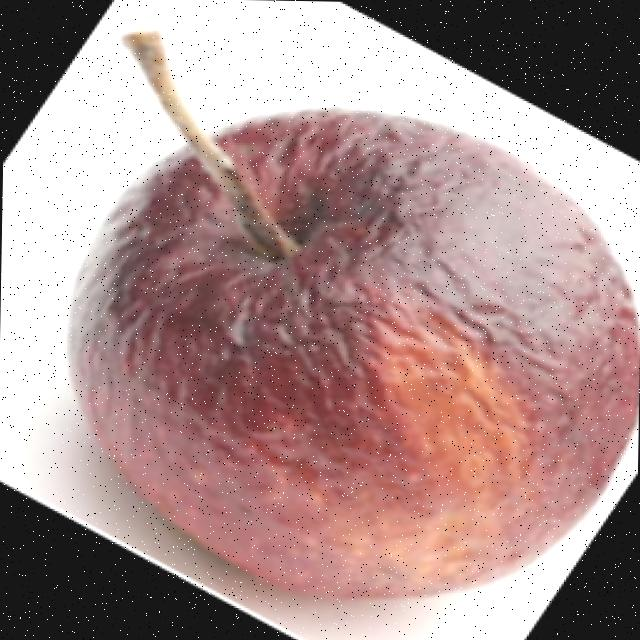overripe: (61, 93, 640, 609)
